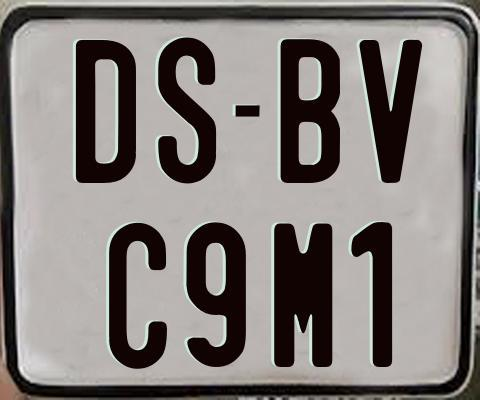1: (348, 219, 390, 368)
9: (183, 221, 243, 372)
B: (280, 37, 345, 182)
C: (108, 221, 172, 368)
D: (76, 39, 139, 186)
M: (274, 222, 337, 371)
S: (156, 35, 214, 185)
V: (359, 40, 427, 184)
